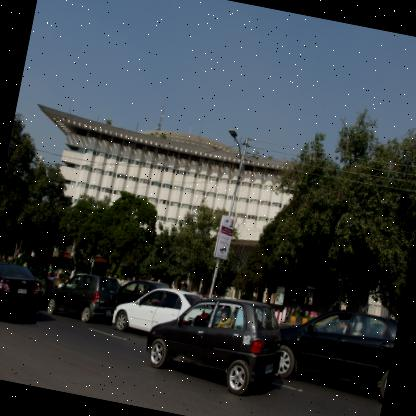Car: (134, 286, 302, 406), (268, 299, 397, 406), (110, 279, 223, 349), (46, 268, 124, 326), (0, 258, 48, 330), (116, 274, 170, 318), (42, 266, 62, 300)
